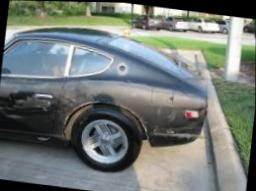Bumper: (139, 122, 203, 147)
Door: (0, 75, 65, 135)
Fender: (50, 53, 192, 137)
